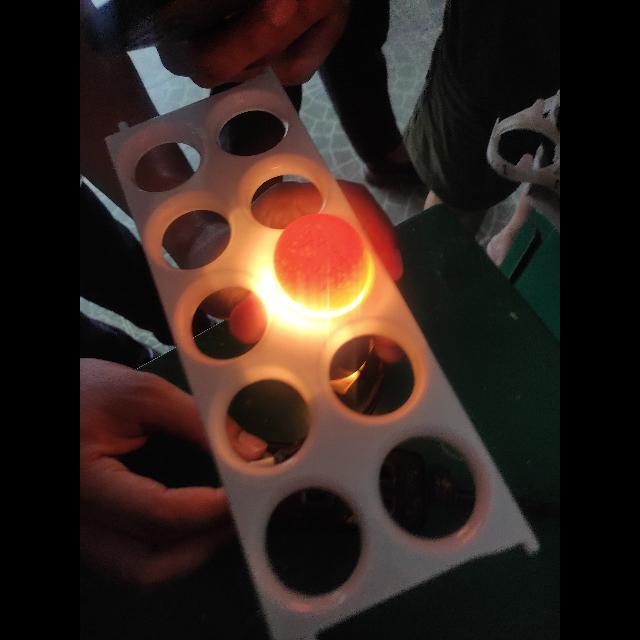Infertile: (275, 211, 367, 303)
